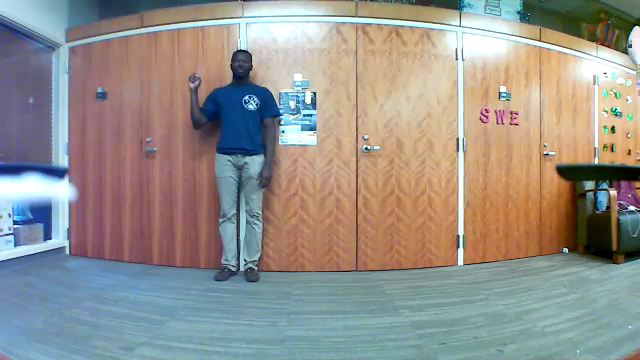up: (182, 58, 203, 98)
